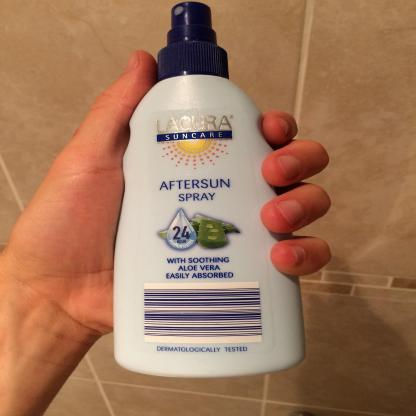Other plastic container: (113, 2, 306, 378)
